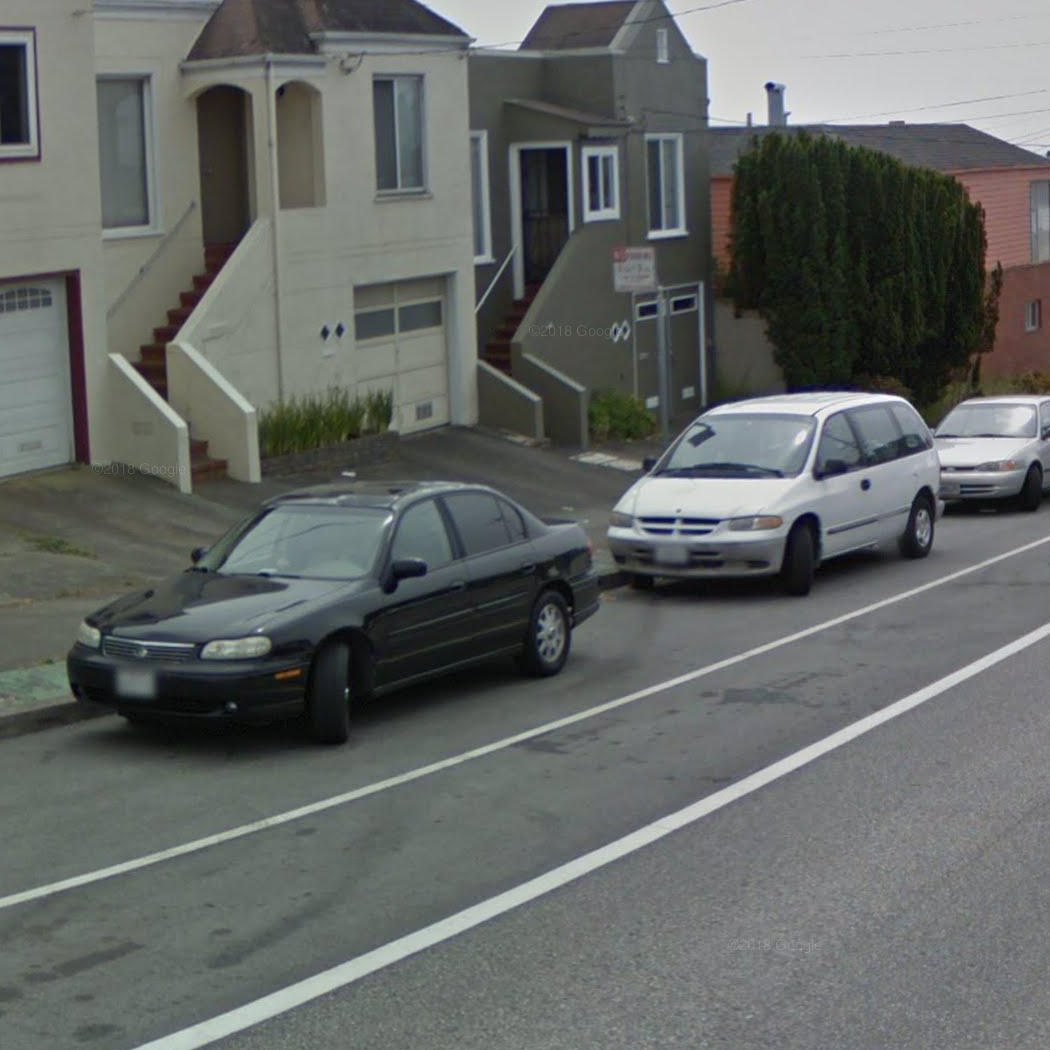No Parking: (613, 246, 655, 292)
